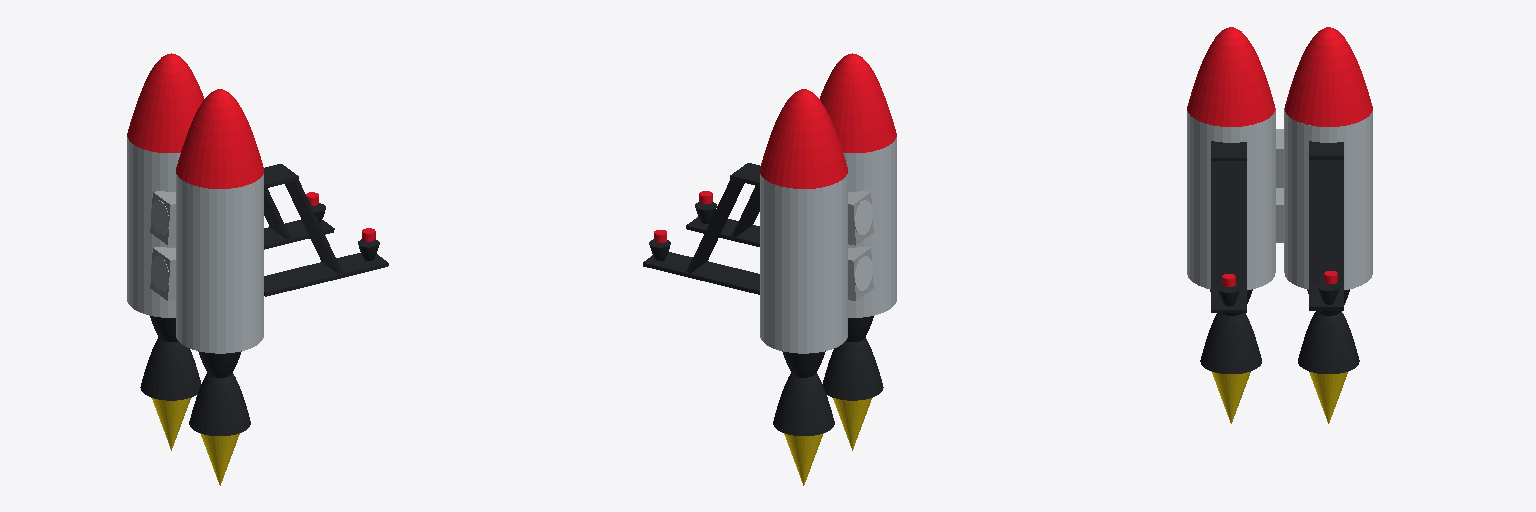
The model's file is jetpack.obj.
3 renders of one model, left to right at view 1: azimuth 30°, elevation 25°; view 2: azimuth 150°, elevation 25°; view 3: azimuth 270°, elevation 25°, orthographic.
Visible parts, largest first — view 1: obj_0; view 2: obj_0; view 3: obj_0.
Part boxes in pixels (left/top/right/bottom): obj_0: left=127, top=53, right=388, bottom=485; obj_0: left=643, top=53, right=896, bottom=485; obj_0: left=1187, top=27, right=1372, bottom=423.
Bounding box in the file's own units: 51.45 × 98.84 × 42.